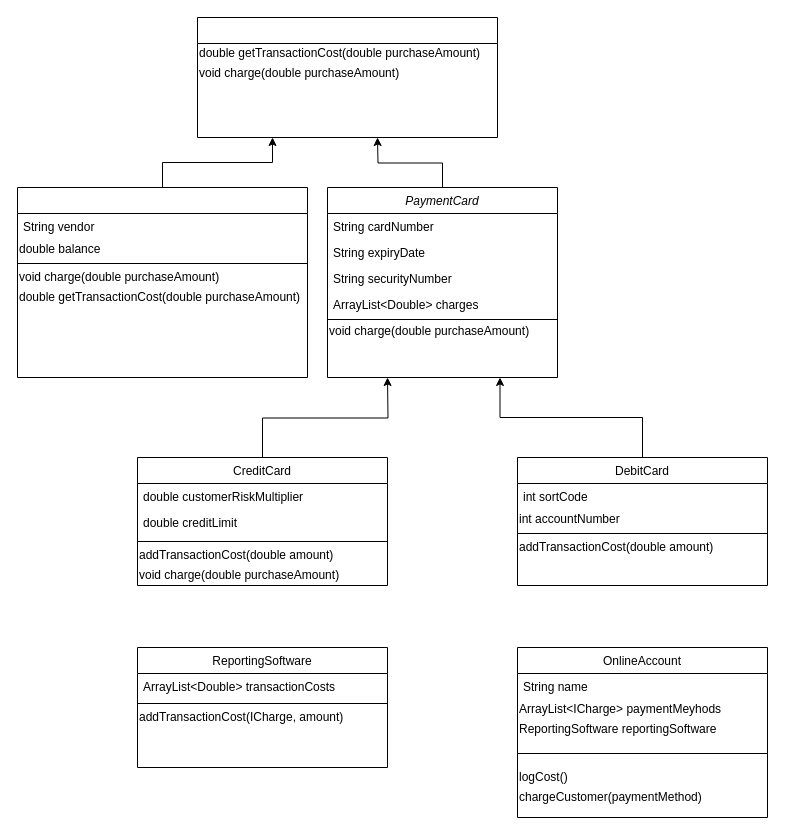
Image size: 785x835. Some labels were removed from this diagram. The box of each missing label's shape, as (x1, y1, x2, y2) in pixels:
GiftCard: (16, 186, 308, 378)
ICharge: (196, 16, 498, 138)
